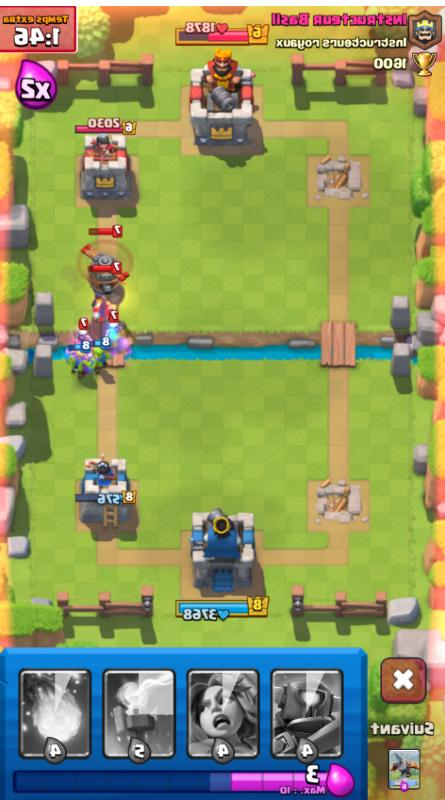gobelin: (86, 343, 122, 380), (64, 346, 90, 381)
squelette: (103, 319, 129, 346), (72, 325, 95, 350)
